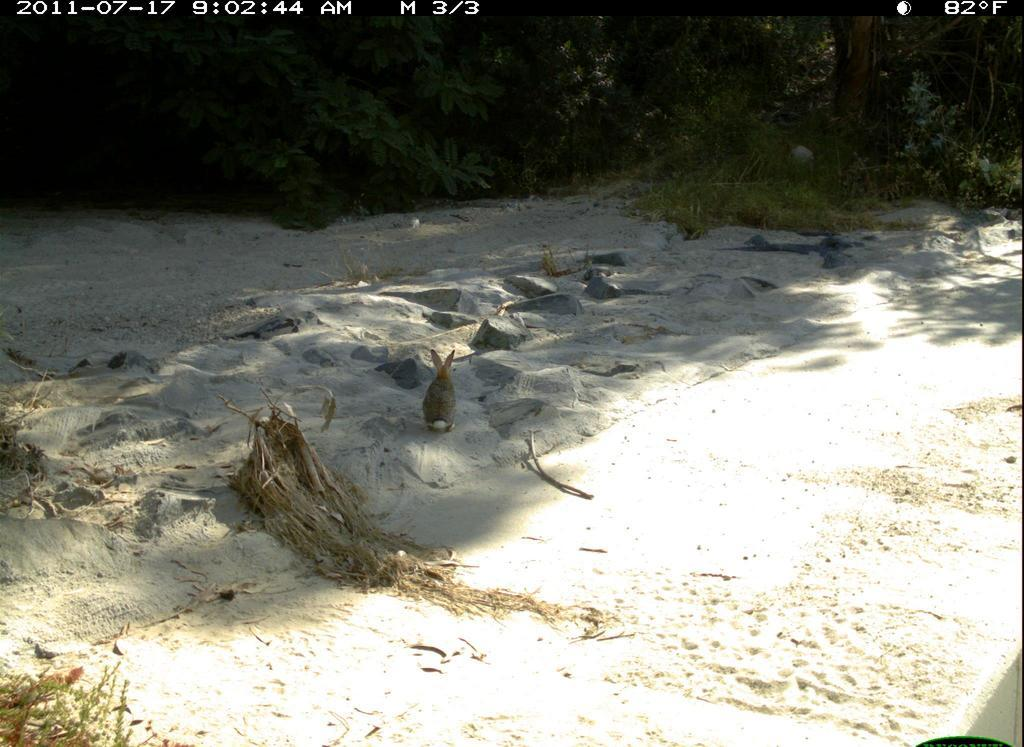rabbit: (415, 342, 469, 438)
